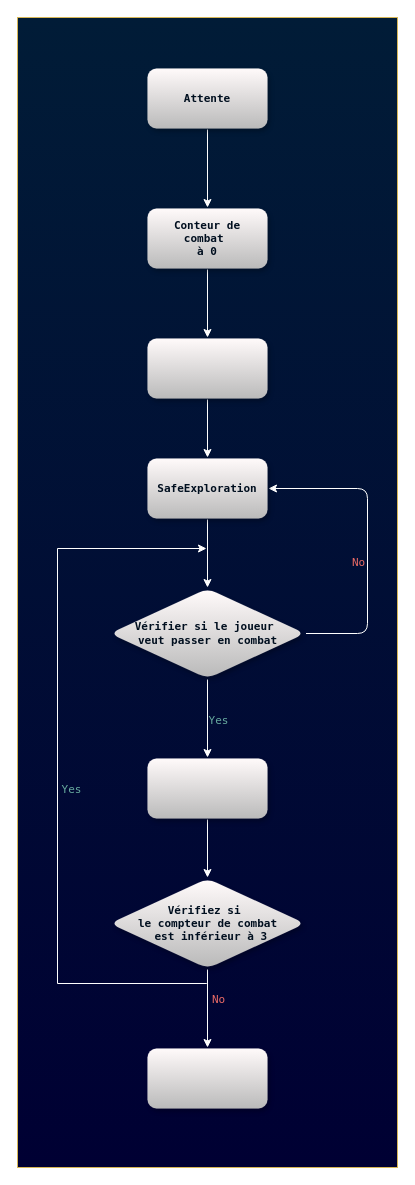
This 415x1185 diagram has some shape labels left out. The shapes that lost their labels are listed below. From the top down, each one's centre as x and y in pixels, then its label:
the point at 208,369: Init
the point at 208,789: Combat
the point at 208,1079: Resulat
